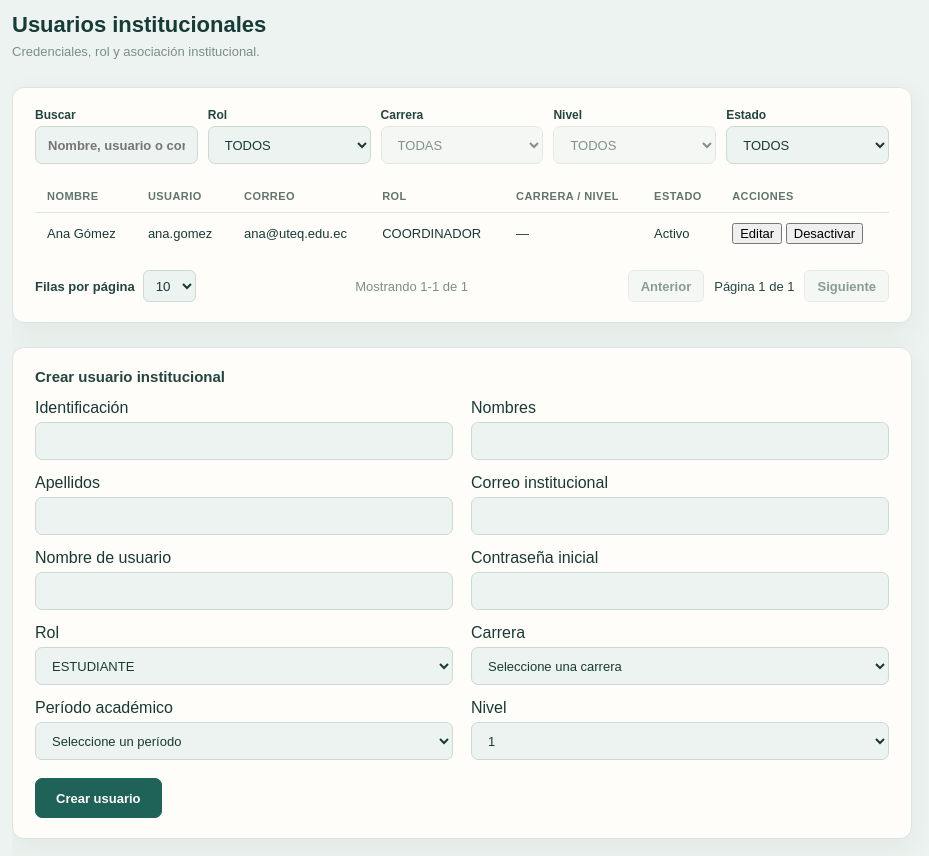
Test: UsuariosPage administrativa › lista y filtra cuentas por rol y estado
Expected: the text "ana.gomez" is shown, [136,212,232,254]
Select "DOCENTE" in the dropdown labelled "Rol" below "Buscar" at (289, 145), box [208,126,371,164]
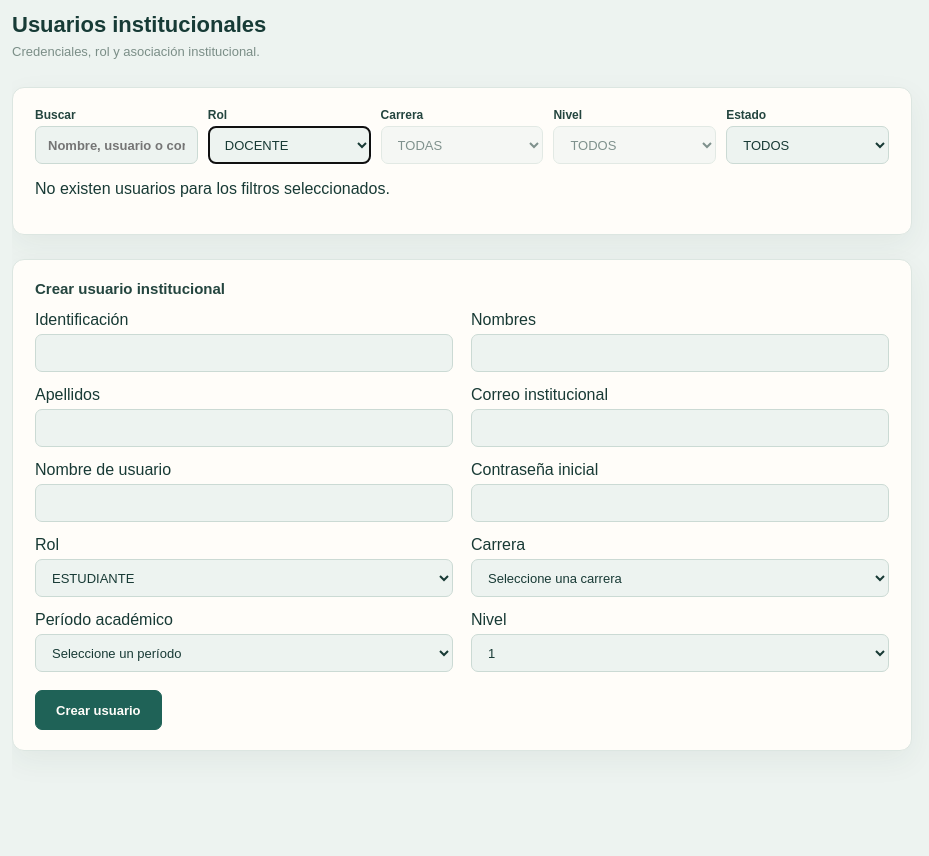
Result: the text "No existen usuarios para los filtros seleccionados." is shown at [35,180,390,197]
